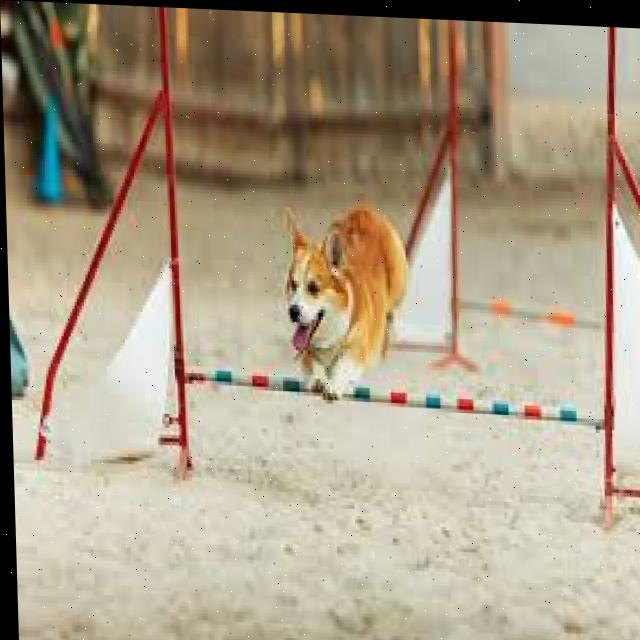CORGI: (259, 190, 429, 405)
